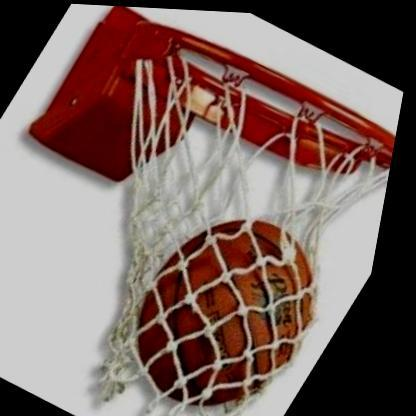basketball: (102, 179, 373, 416)
